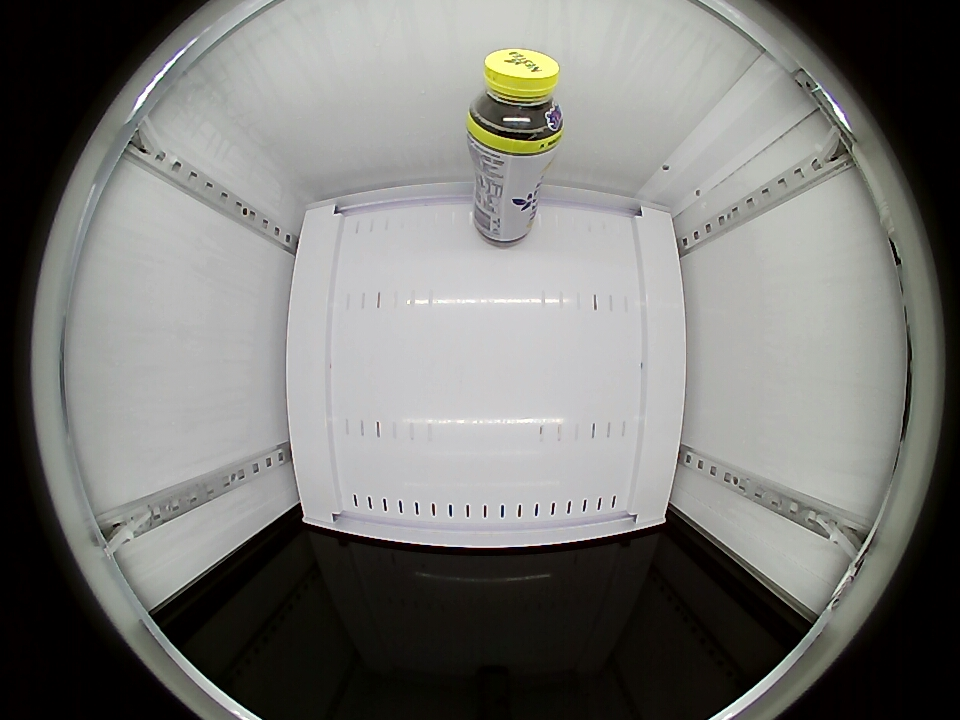chacui: (467, 49, 564, 156)
